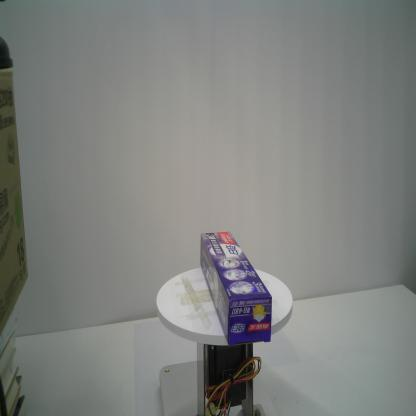Personal Hygiene: (199, 230, 273, 348)
